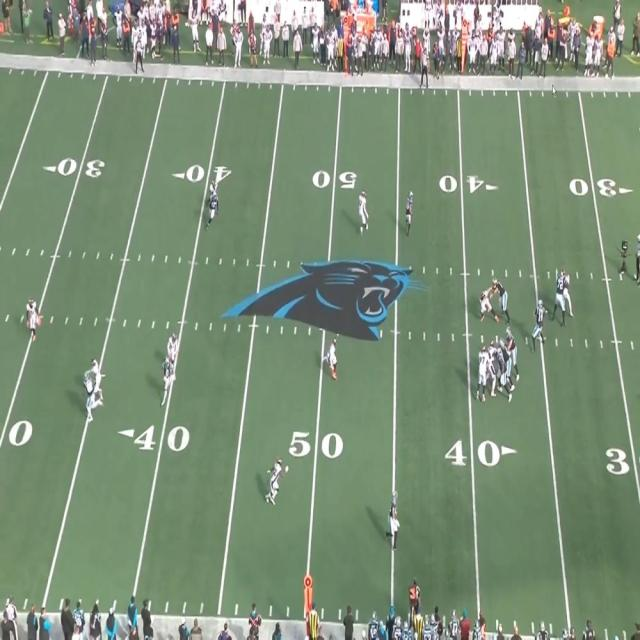db: (270, 458, 284, 503), (168, 333, 180, 385), (28, 297, 42, 341), (92, 357, 100, 398), (208, 180, 218, 200)
lb: (358, 188, 368, 232), (328, 338, 338, 378)
qb: (533, 301, 544, 346)
skill: (83, 367, 95, 421), (405, 189, 416, 232), (391, 496, 400, 544), (162, 358, 171, 400), (209, 191, 217, 230)
